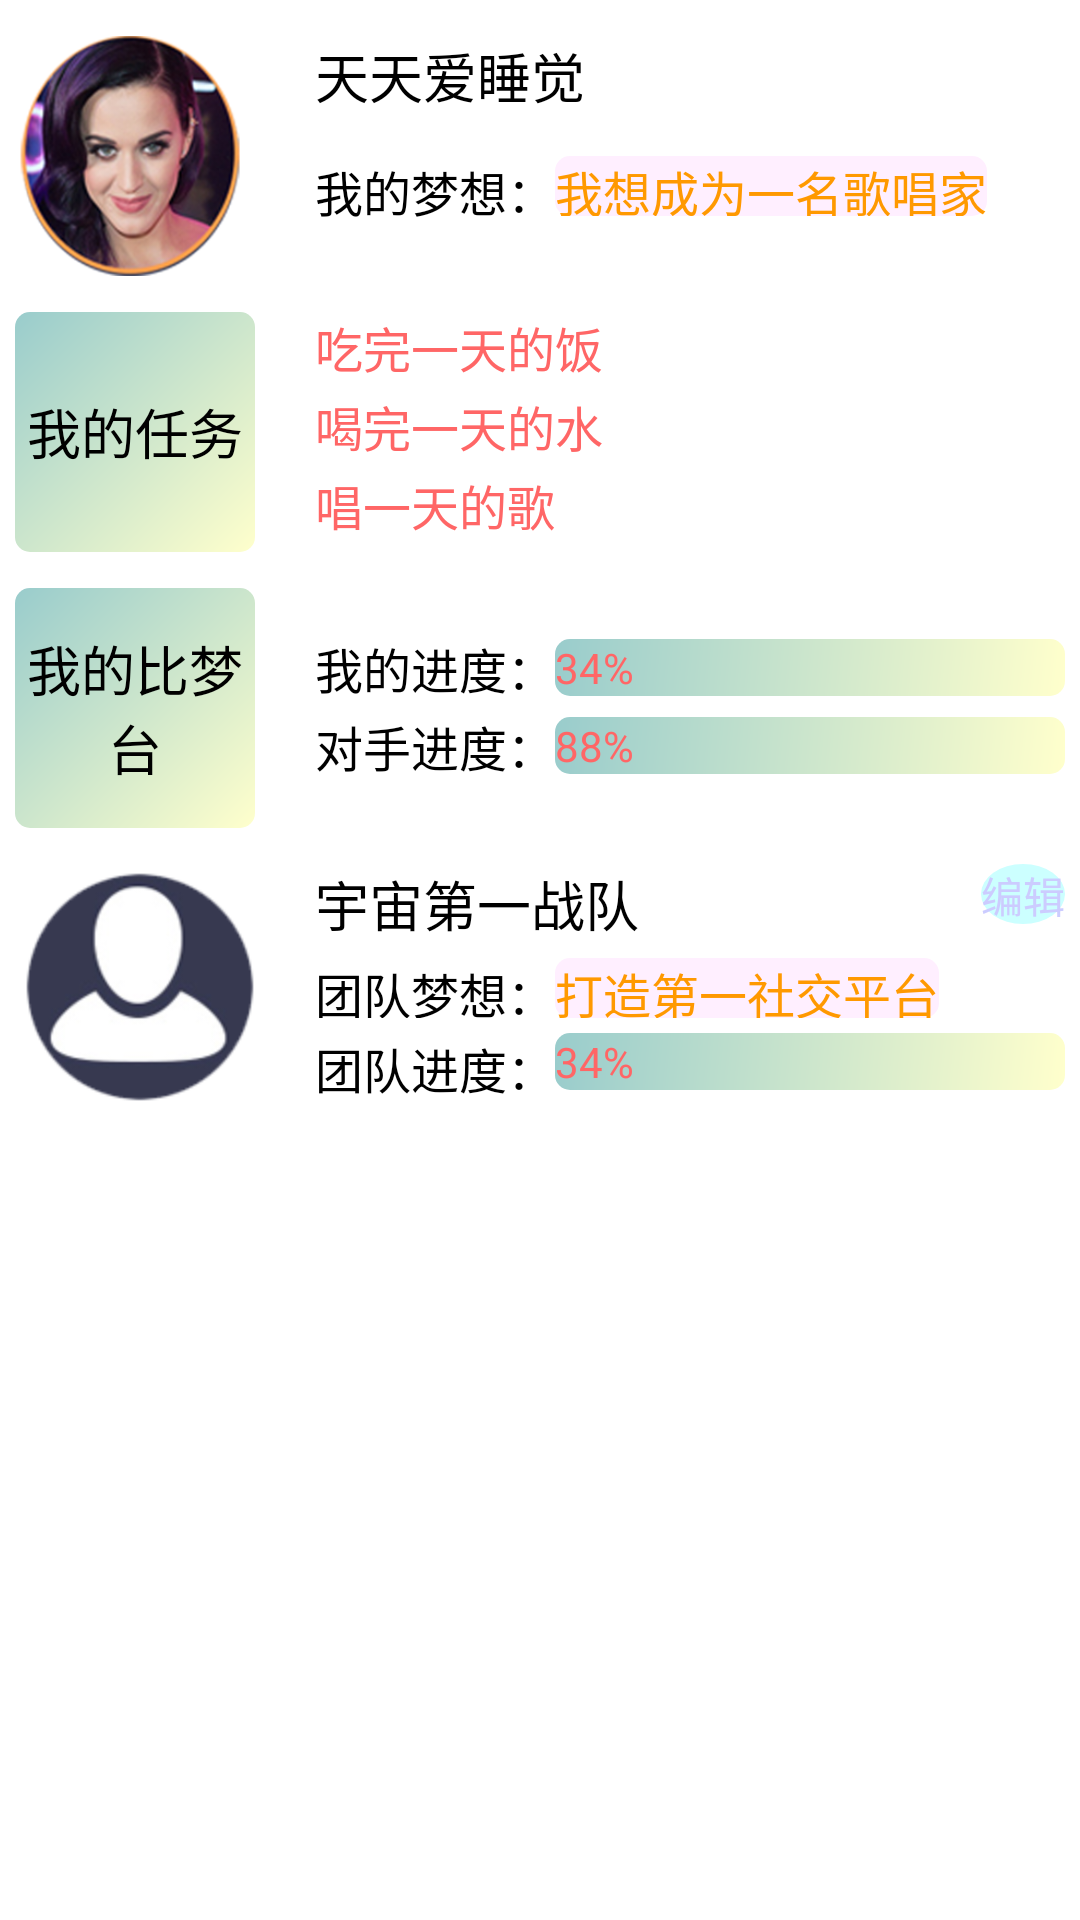

Screen size 1080 × 1920. Icon name, then its center in pixels as [x,y]:
dream myicon: [130,156]
teamicon: [140,987]
